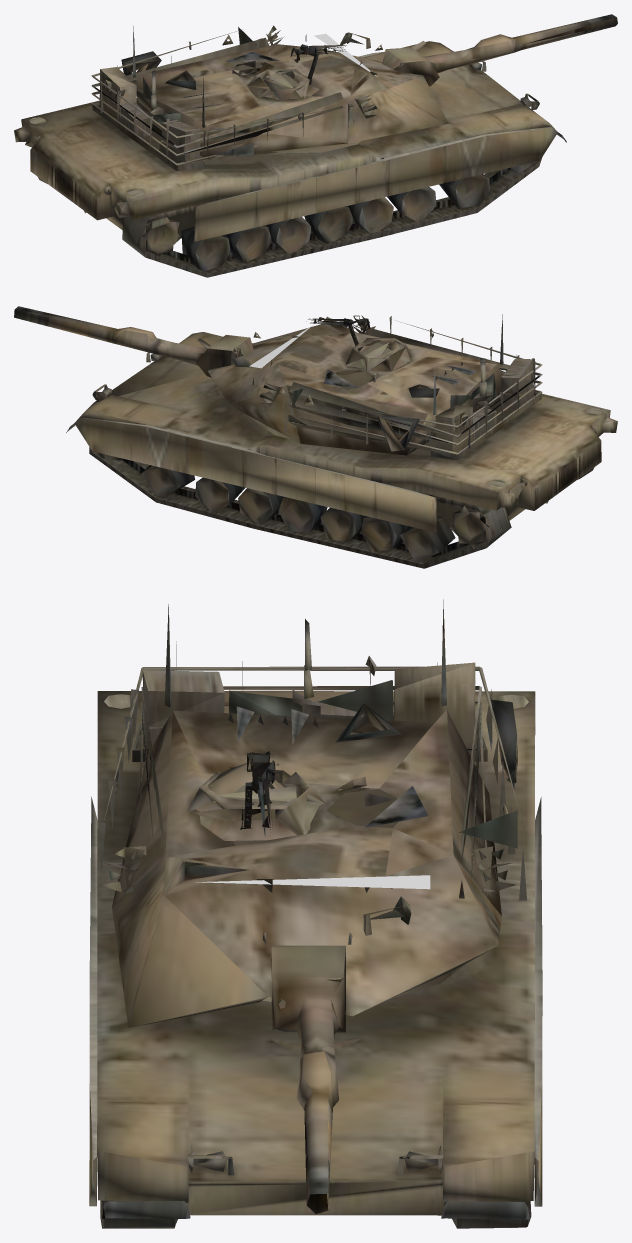
Rendered from abrams_lo.glb.
The picture shows the model from 3 angles, top to bottom: view 1: azimuth 30°, elevation 25°; view 2: azimuth 150°, elevation 25°; view 3: azimuth 270°, elevation 25°; orthographic projection. The views are drawn at different scales.
Parts seen in each view (by area): view 1: g_abrams_hull, g_abrams_turret, g_abrams_gun; view 2: g_abrams_hull, g_abrams_turret, g_abrams_gun; view 3: g_abrams_hull, g_abrams_turret, g_abrams_gun.
Part boxes in pixels (<box>): g_abrams_hull: <box>14,41,566,277</box>; g_abrams_turret: <box>91,25,448,165</box>; g_abrams_gun: <box>382,14,617,86</box>; g_abrams_hull: <box>66,332,617,568</box>; g_abrams_turret: <box>208,314,542,455</box>; g_abrams_gun: <box>14,306,253,377</box>; g_abrams_hull: <box>89,619,542,1228</box>; g_abrams_turret: <box>97,599,526,1027</box>; g_abrams_gun: <box>271,945,345,1213</box>.
Size of the model in its own units: 9.79 by 3.24 by 3.49.
4 materials, 3 textured.
